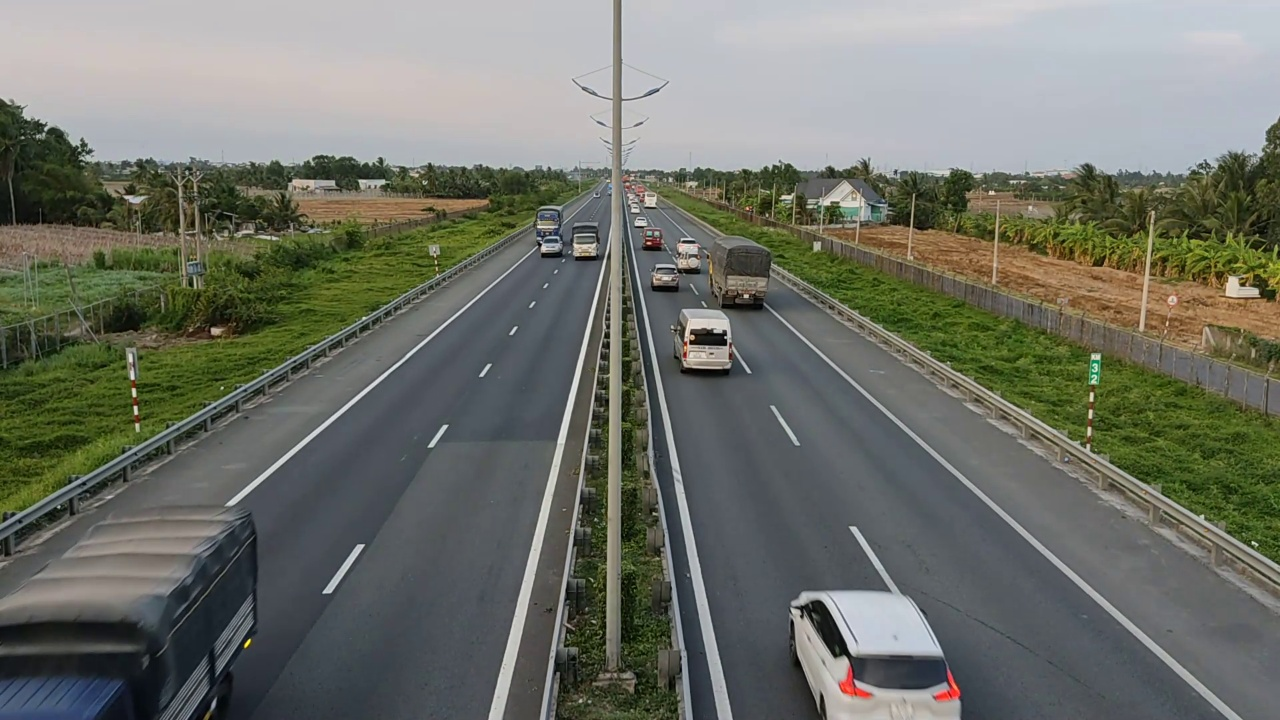car: (788, 589, 963, 719), (668, 300, 737, 375), (650, 263, 681, 291), (643, 227, 665, 249)
truck: (708, 235, 772, 308)
